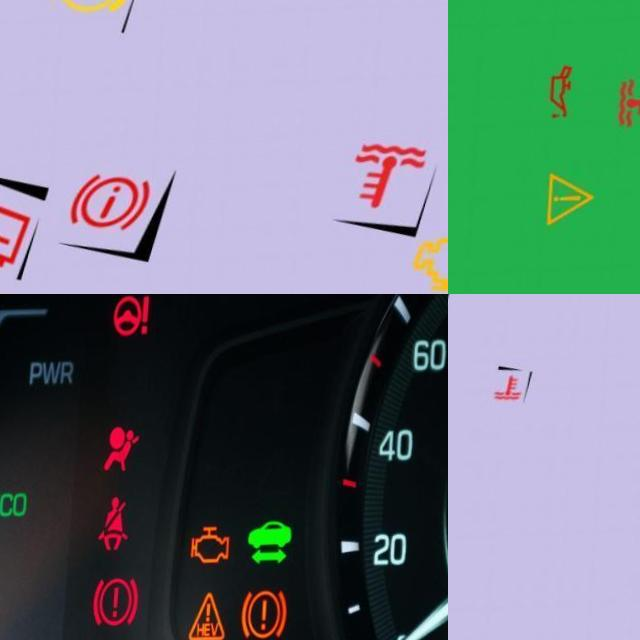Electronic Power Steering: (109, 294, 154, 342)
Seat Belt: (100, 495, 133, 557)
